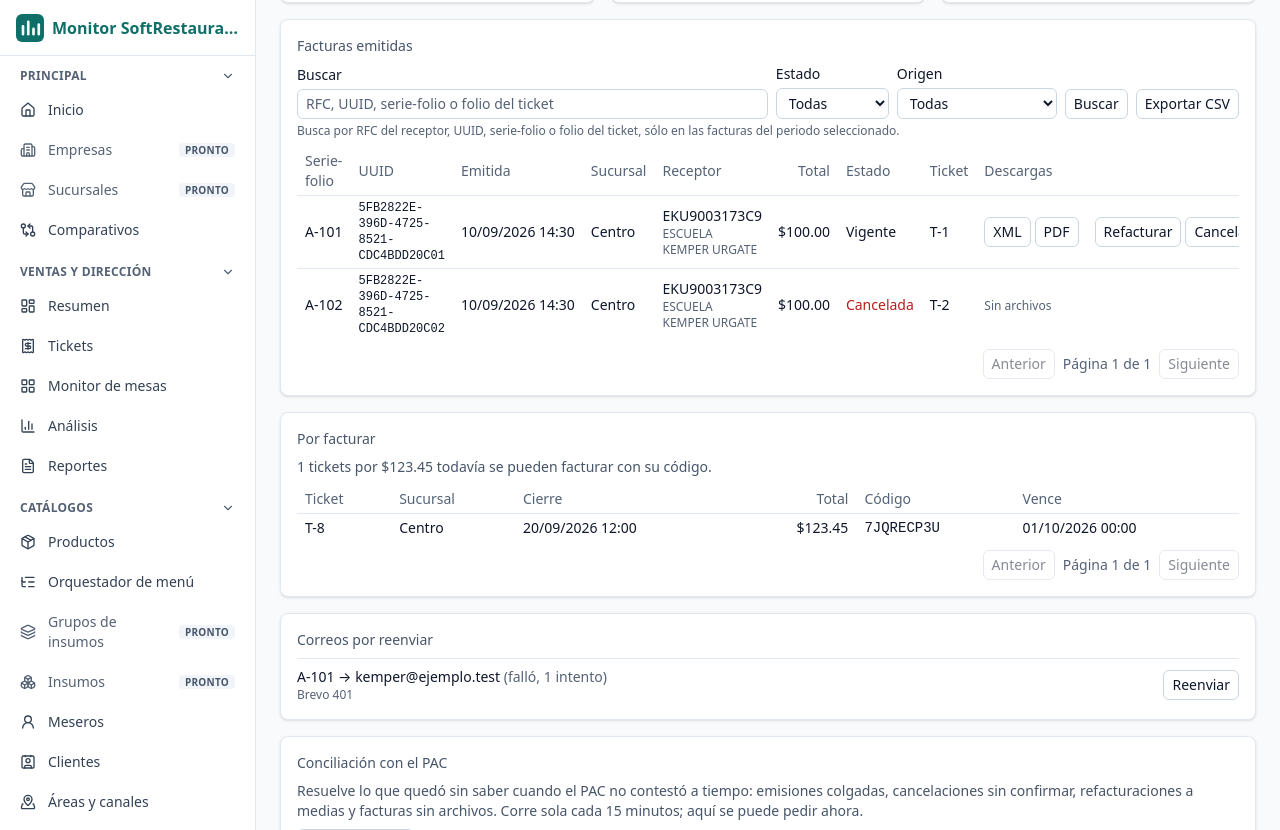
Test case: tablero de facturación › por facturar lista las cuentas con su código; los correos fallidos se reenvían
(page scrolled)
expect the text "7JQRECP3U" is shown: met, box [856,514,1015,542]
expect the list with test id "envios-pendientes" shows "A-101 → kemper@ejemplo.test": met, box [297,658,1239,703]
Click the button "Reenviar" at (1201, 685), box [1164,670,1239,700]
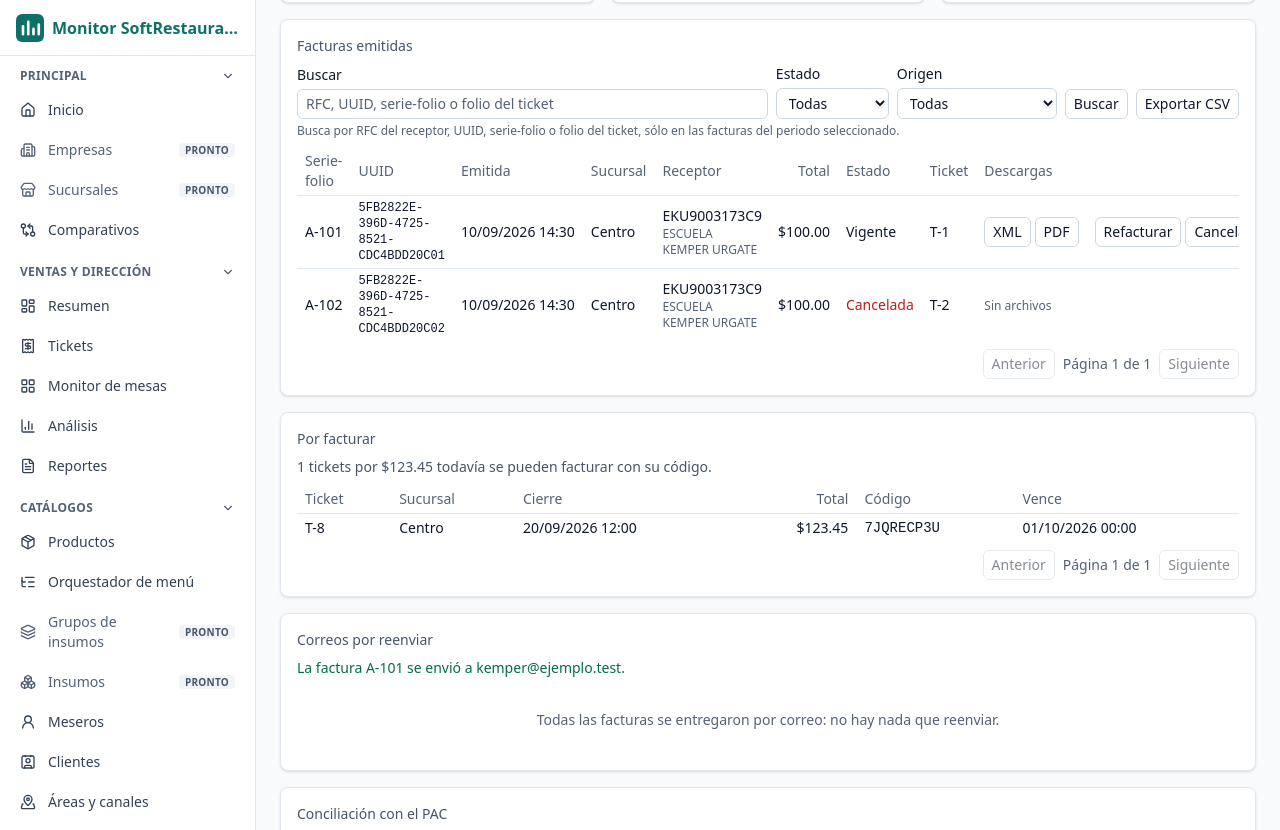
expect the message reads "La factura A-101 se envió a kemper@ejemplo.test.": met, box [297,658,625,677]
expect the text "Todas las facturas se entregaron por correo: no hay nada que reenviar." is shown: met, box [537,710,999,729]
